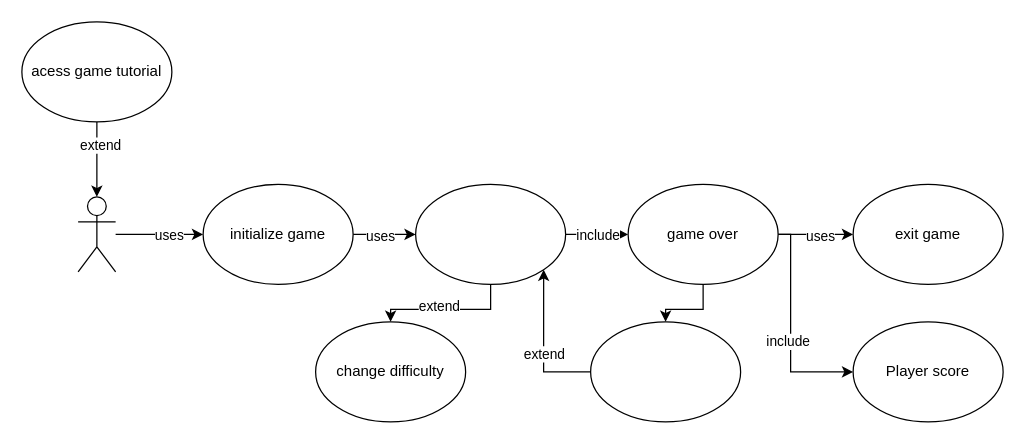
Image size: 1025x444. Some labels were removed from this diagram. Here are the shapes that lost their labels. From the top down, the centre of each, then its label:
At (x=96, y=234): "Actor".
At (x=490, y=233): "play game".
At (x=665, y=371): "start new round".
